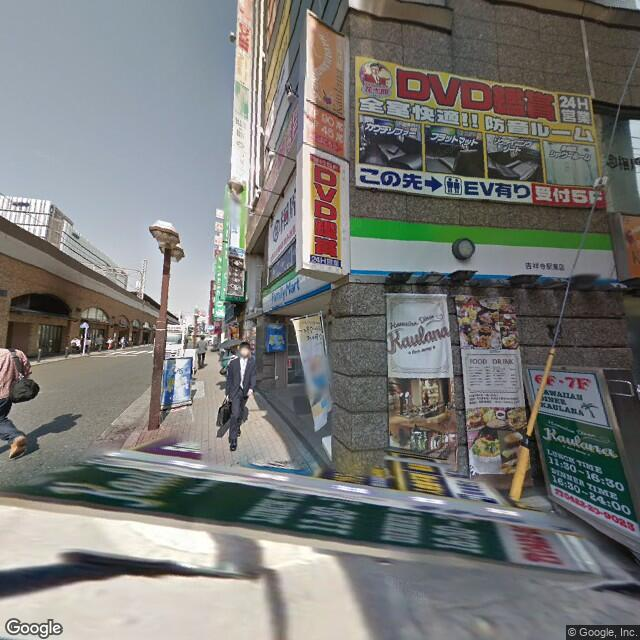family_mart: (349, 213, 618, 288), (258, 265, 322, 319)
